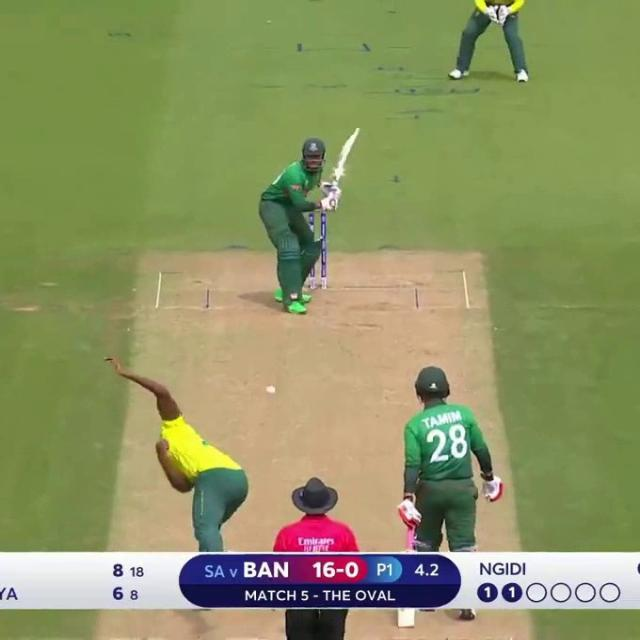bat: (333, 126, 362, 185), (395, 604, 420, 634)
toe: (400, 622, 414, 628)
